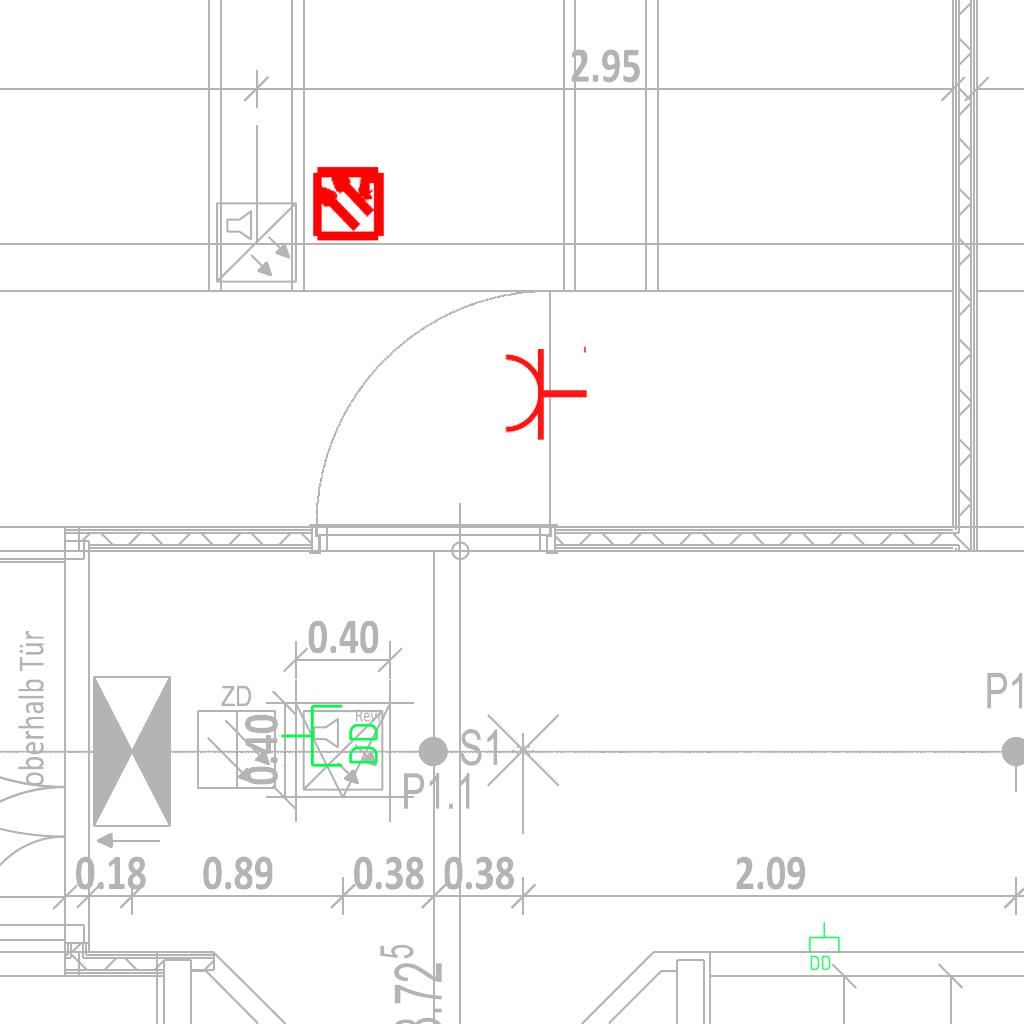Datenanschluss_zweifach: (279, 702, 382, 771), (807, 921, 841, 972)
OT_Multisensormelder_(Kombination_RMO_WMD): (292, 145, 405, 258)
Schukosteckdose_einfach: (502, 342, 589, 442)
